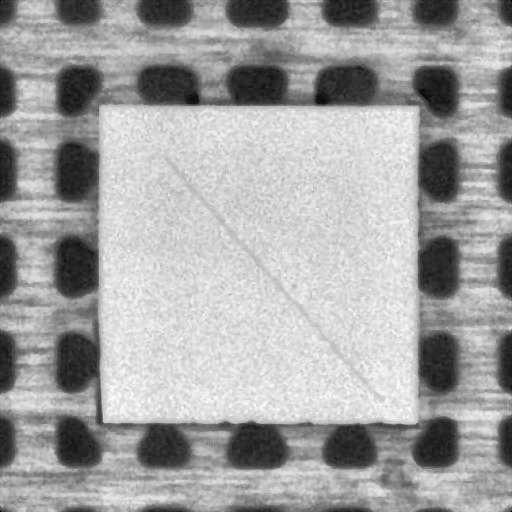DIE_CRACK: (165, 158, 378, 400)
